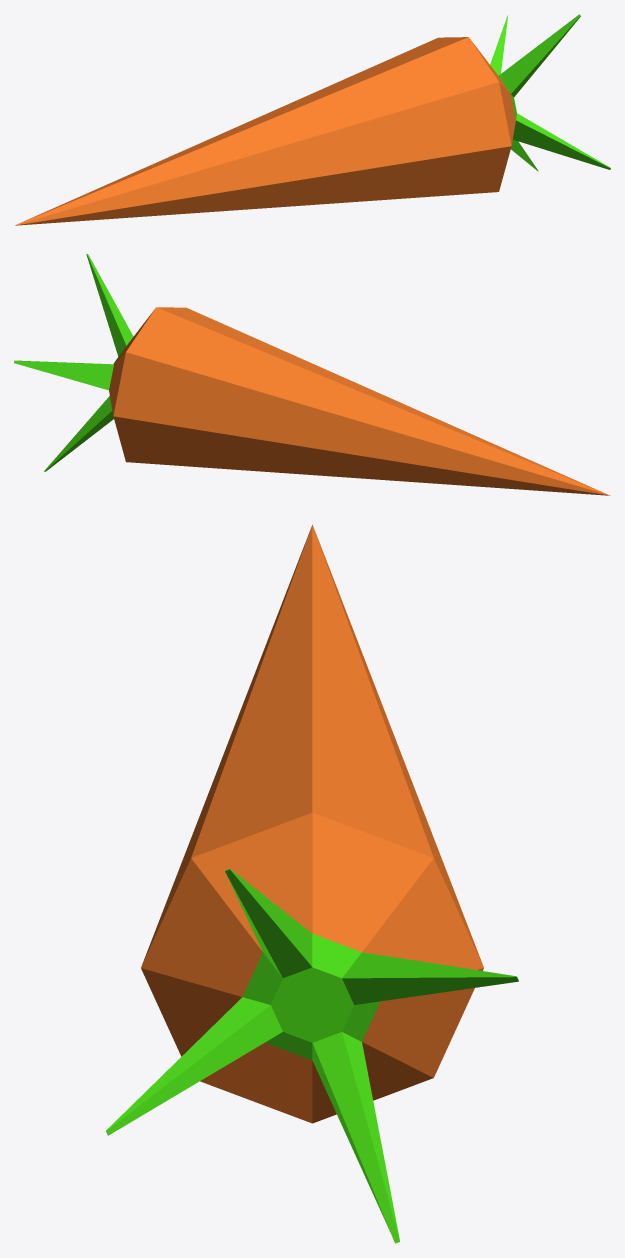
File: carrot.fbx
3 renders of one model, top to bottom at view 1: azimuth 30°, elevation 25°; view 2: azimuth 150°, elevation 25°; view 3: azimuth 270°, elevation 25°, orthographic. The views are drawn at different scales.
Parts seen in each view (by area): view 1: Cube; view 2: Cube; view 3: Cube.
Boxes of the visible parts, x1,y1,x2,y2 form: Cube: (15,14,610,225); Cube: (14,254,610,495); Cube: (106,524,518,1243).
Size of the model in its own units: 79.82 by 26.18 by 26.18.
